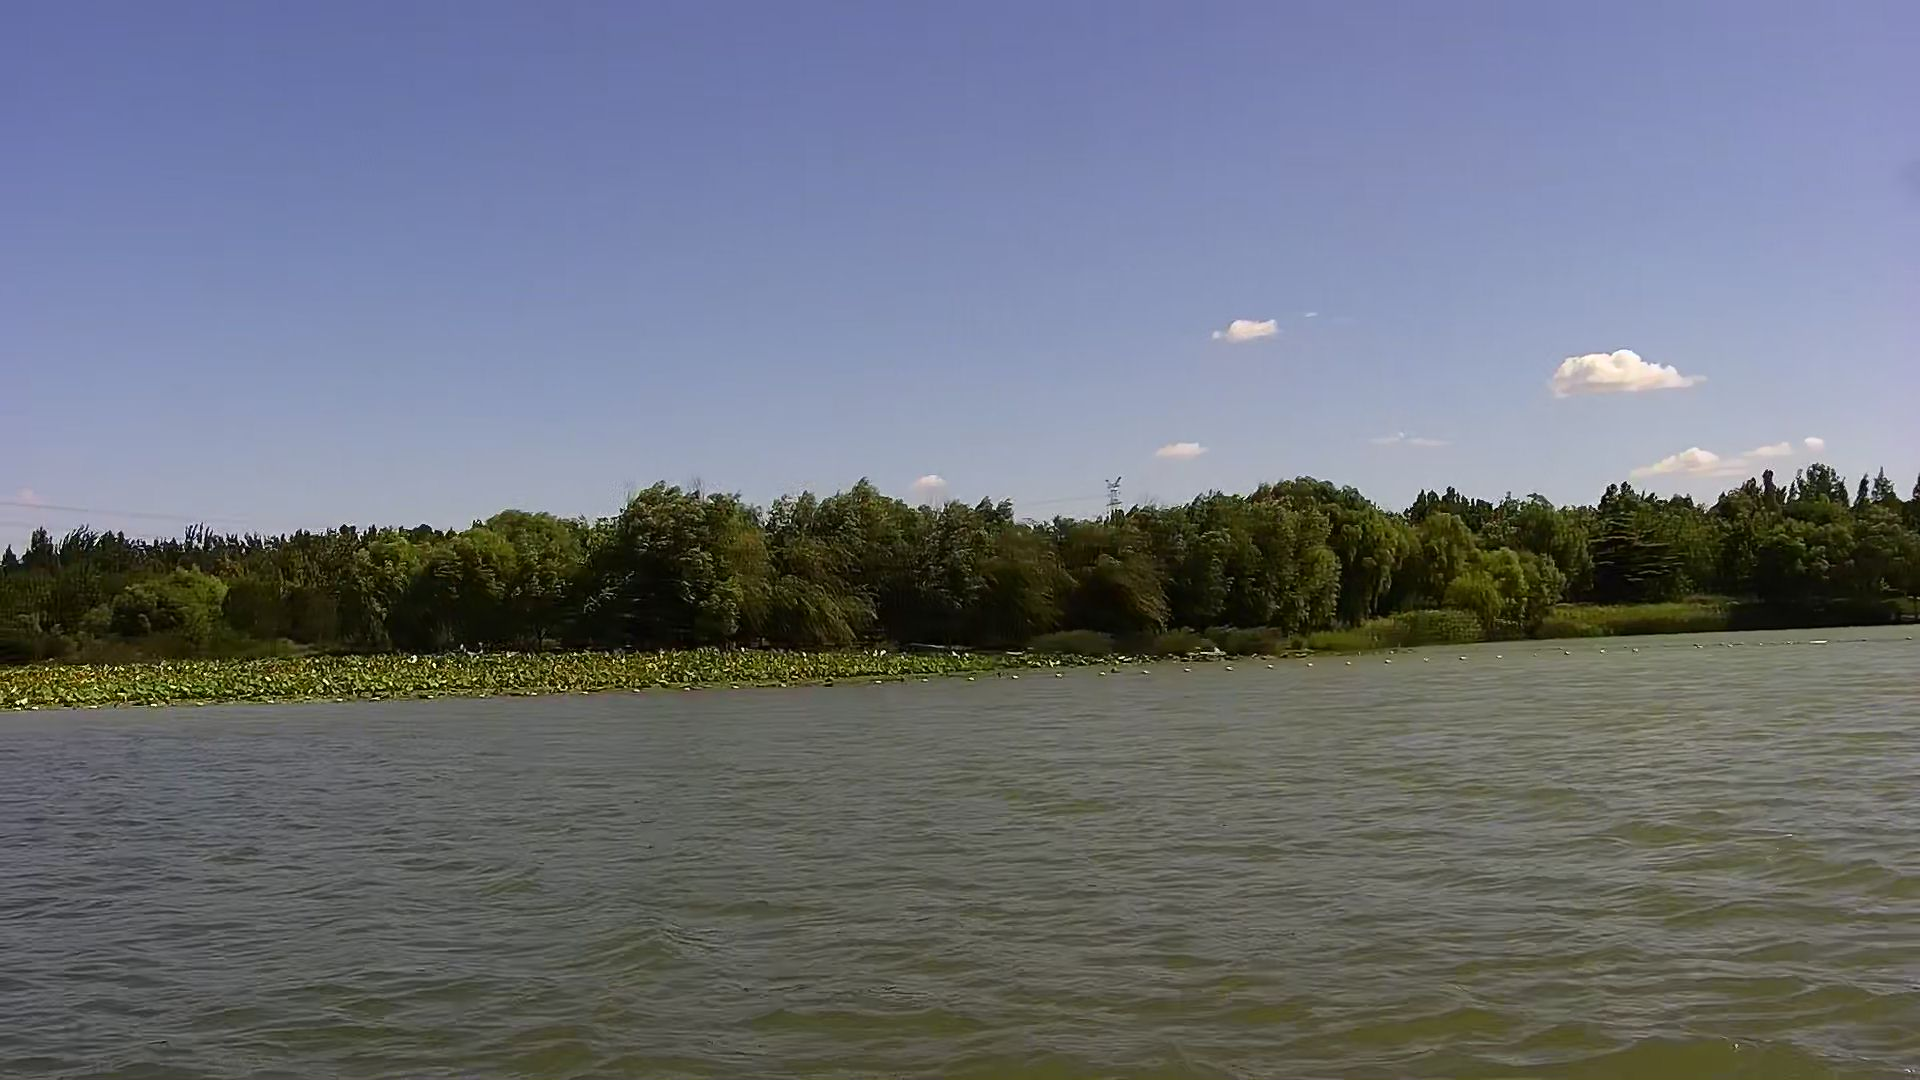grass: (1, 646, 1126, 709)
